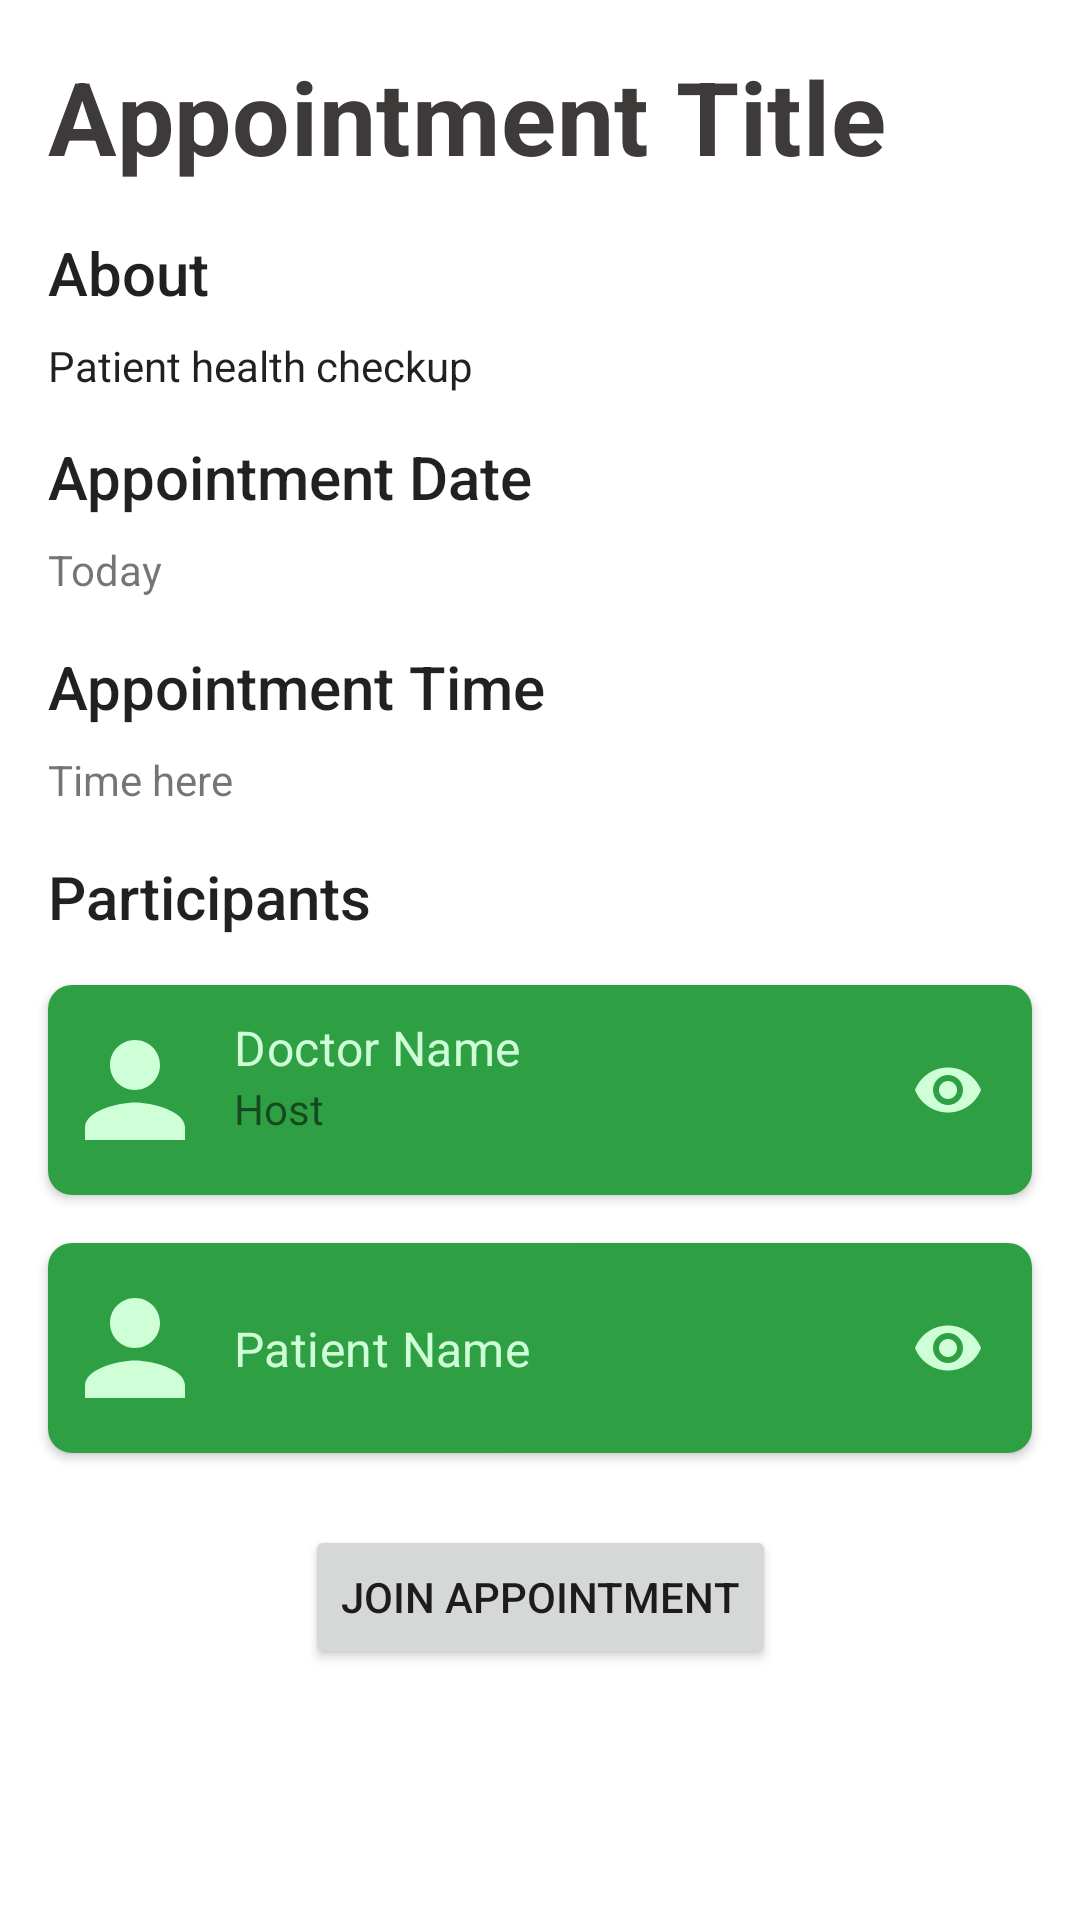

Screen size 1080w x 1920h. Icon name, then its box in pixels as (x1,y1,x2,y2):
person: (85,1040,185,1140), (85,1298,185,1398)
